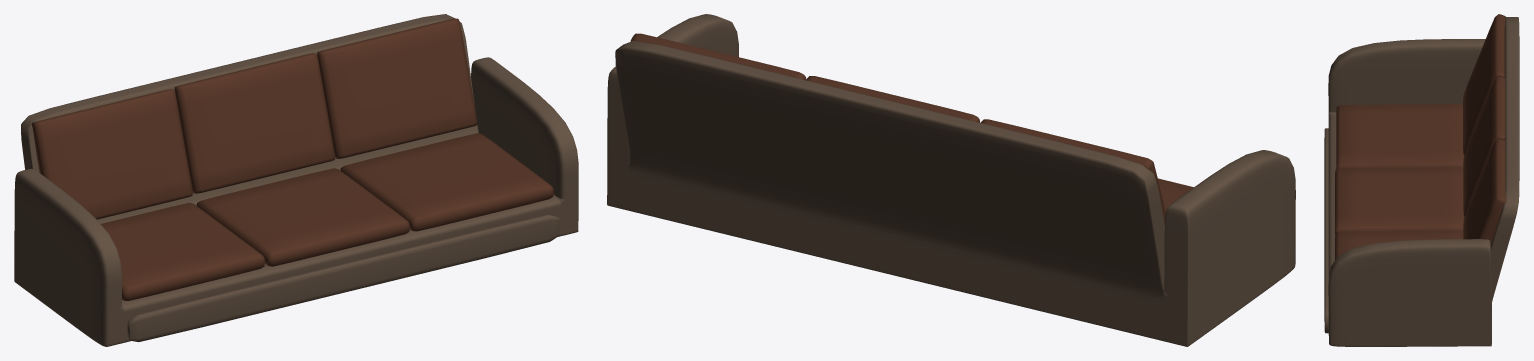
Rendered from sofa.fbx.
3 renders of one model, left to right at view 1: azimuth 30°, elevation 25°; view 2: azimuth 150°, elevation 25°; view 3: azimuth 270°, elevation 25°, orthographic. The views are drawn at different scales.
Visible parts, largest first — view 1: Cube.019; view 2: Cube.019; view 3: Cube.019.
Part boxes in pixels (x1,y1,x2,y2): Cube.019: [14, 14, 578, 346]; Cube.019: [607, 14, 1295, 346]; Cube.019: [1324, 14, 1519, 346].
Size of the model in its own units: 989 by 303 by 390.
